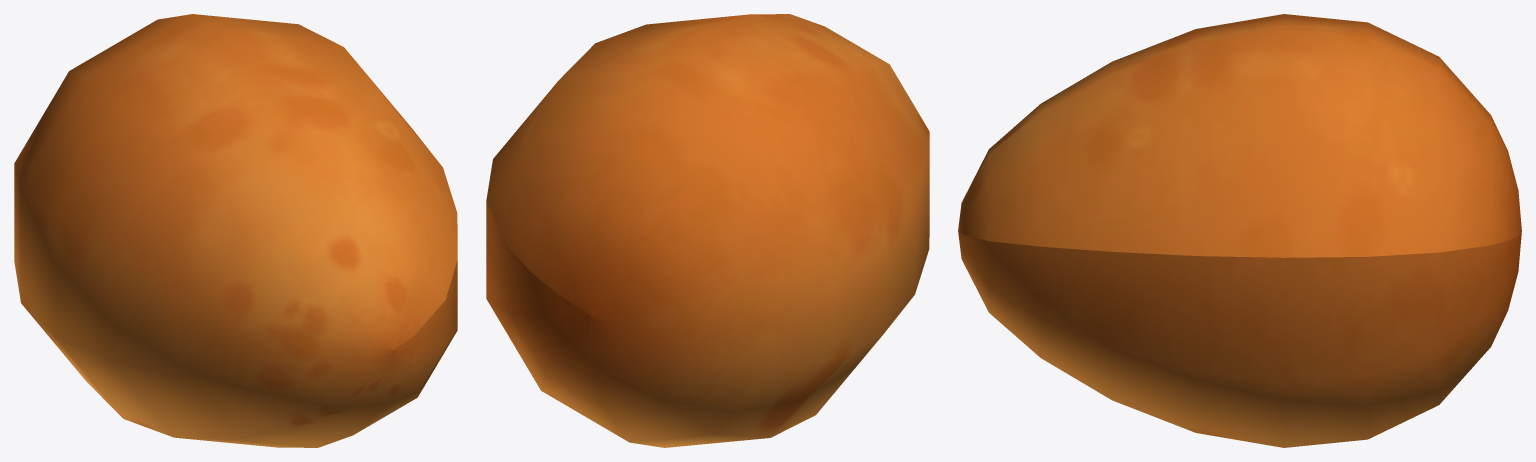
Rendered from huevo_7.fbx.
The picture shows the model from 3 angles, left to right: view 1: azimuth 30°, elevation 25°; view 2: azimuth 150°, elevation 25°; view 3: azimuth 270°, elevation 25°; orthographic projection.
Parts seen in each view (by area): view 1: s4studio_mesh_0; view 2: s4studio_mesh_0; view 3: s4studio_mesh_0.
Part boxes in pixels (x1,y1,x2,y2): s4studio_mesh_0: (14,14,457,447); s4studio_mesh_0: (486,14,929,447); s4studio_mesh_0: (958,14,1521,447).
Size of the model in its own units: 5.59 by 5.88 by 7.5.
1 material, 1 textured.
